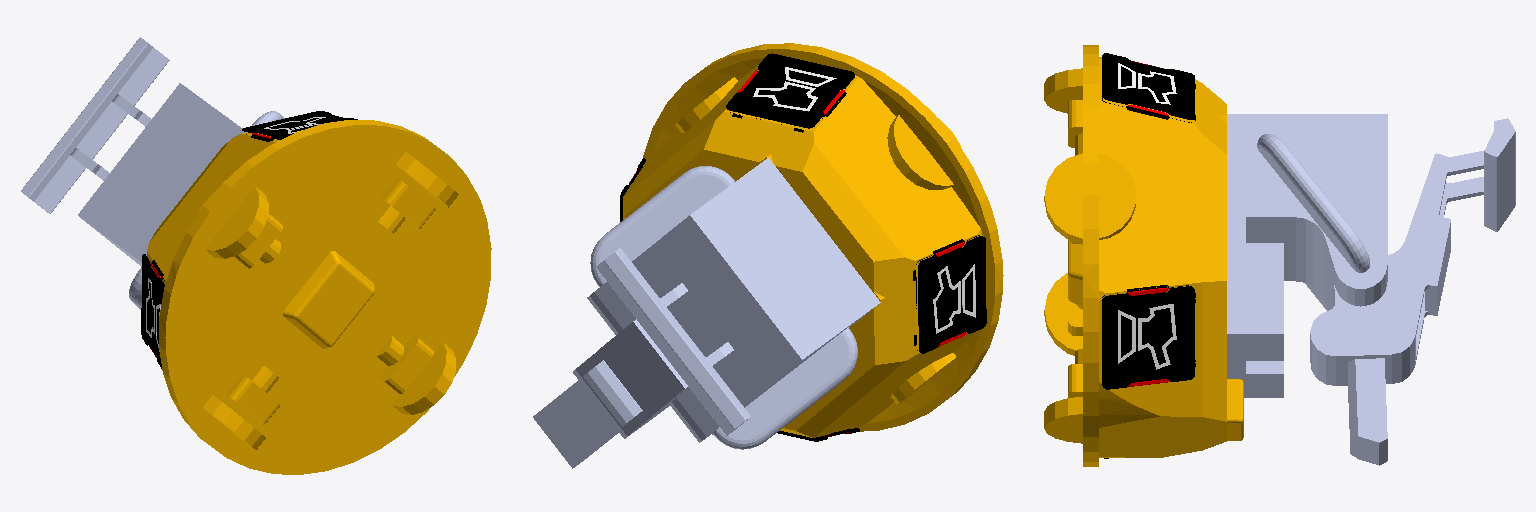
The robot description file, URDF, robot "sentry":
<?xml version="1.0" encoding="utf-8"?>
<!-- This URDF was automatically created by SolidWorks to URDF Exporter! Originally created by [author] ([email redacted]) 
     Commit Version: 1.6.0-4-g7f85cfe  Build Version: 1.6.7995.38578
     For more information, please see http://wiki.ros.org/sw_urdf_exporter -->
<robot
  name="sentry">
  <link
    name="base_link">
    <inertial>
      <origin
        xyz="0.0058961 -0.10415 -0.0060668"
        rpy="0 0 0" />
      <mass
        value="34.39" />
      <inertia
        ixx="0.61402"
        ixy="-0.0072371"
        ixz="0.028313"
        iyy="1.0121"
        iyz="0.0074469"
        izz="0.6124" />
    </inertial>
    <visual>
      <origin
        xyz="0 0 0"
        rpy="0 0 0" />
      <geometry>
        <mesh
          filename="package://sentry/meshes/base_link.STL" />
      </geometry>
      <material
        name="base_link">
        <color
          rgba="0.984 0.737 0.020 1" />
      </material>
    </visual>
    <collision>
      <origin
        xyz="0 0 0"
        rpy="0 0 0" />
      <geometry>
        <mesh
          filename="package://sentry/meshes/base_link.STL" />
      </geometry>
    </collision>
  </link>
  <link
    name="mount_link">
    <inertial>
      <origin
        xyz="-0.021651 0.10215 0.023049"
        rpy="0 0 0" />
      <mass
        value="11.727" />
      <inertia
        ixx="0.11733"
        ixy="0.0063296"
        ixz="0.0020754"
        iyy="0.1403"
        iyz="-0.0054707"
        izz="0.11921" />
    </inertial>
    <visual>
      <origin
        xyz="0 0 0"
        rpy="0 0 0" />
      <geometry>
        <mesh
          filename="package://sentry/meshes/mount_link.STL" />
      </geometry>
      <material
        name="mount_link">
        <color
          rgba="0.79216 0.81961 0.93333 1" />
      </material>
    </visual>
    <collision>
      <origin
        xyz="0 0 0"
        rpy="0 0 0" />
      <geometry>
        <mesh
          filename="package://sentry/meshes/mount_link.STL" />
      </geometry>
    </collision>
  </link>
  <joint
    name="mount_joint"
    type="continuous">
    <origin
      xyz="0 0 0"
      rpy="0 0 0" />
    <parent
      link="base_link" />
    <child
      link="mount_link" />
    <axis
      xyz="0 1 0" />
  </joint>
  <link
    name="turret_link">
    <inertial>
      <origin
        xyz="0.018816 0.04759 -0.018816"
        rpy="0 0 0" />
      <mass
        value="2.2519" />
      <inertia
        ixx="0.028264"
        ixy="0.011098"
        ixz="0.011252"
        iyy="0.031604"
        iyz="-0.011098"
        izz="0.028264" />
    </inertial>
    <visual>
      <origin
        xyz="0 0 0"
        rpy="0 0 0" />
      <geometry>
        <mesh
          filename="package://sentry/meshes/turret_link.STL" />
      </geometry>
      <material
        name="turret_link">
        <color
          rgba="0.79216 0.81961 0.93333 1" />
      </material>
    </visual>
    <collision>
      <origin
        xyz="0 0 0"
        rpy="0 0 0" />
      <geometry>
        <mesh
          filename="package://sentry/meshes/turret_link.STL" />
      </geometry>
    </collision>
  </link>
  <joint
    name="turret_joint"
    type="continuous">
    <origin
      xyz="0.039832730842718 0.175264704336287 -0.0398327308427171"
      rpy="0.0251555330704304 -0.00031643379213156 0.0251555330704238" />
    <parent
      link="mount_link" />
    <child
      link="turret_link" />
    <axis
      xyz="0.707106781186547 0 0.707106781186548" />
  </joint>
  <link
    name="plates_link">
    <inertial>
      <origin
        xyz="1.2306E-09 -0.10279 -8.31E-10"
        rpy="0 0 0" />
      <mass
        value="0.42253" />
      <inertia
        ixx="0.00080558"
        ixy="1.2254E-12"
        ixz="7.2489E-13"
        iyy="0.00061977"
        iyz="-9.8536E-13"
        izz="0.00080558" />
    </inertial>
    <visual>
      <origin
        xyz="0 0 0"
        rpy="0 0 0" />
      <geometry>
        <mesh
          filename="package://sentry/meshes/plates_link.STL" />
      </geometry>
      <material
        name="plates_link">
        <color
          rgba="0 0 0 1" />
      </material>
    </visual>
    <collision>
      <origin
        xyz="0 0 0"
        rpy="0 0 0" />
      <geometry>
        <mesh
          filename="package://sentry/meshes/plates_link.STL" />
      </geometry>
    </collision>
  </link>
  <joint
    name="plates_joint"
    type="fixed">
    <origin
      xyz="0 0 0"
      rpy="0 0 0" />
    <parent
      link="base_link" />
    <child
      link="plates_link" />
    <axis
      xyz="0 0 0" />
  </joint>
  <link
    name="lightbars_link">
    <inertial>
      <origin
        xyz="-4.2633E-14 -0.10205 1.1835E-13"
        rpy="0 0 0" />
      <mass
        value="0.0025567" />
      <inertia
        ixx="5.7029E-07"
        ixy="-9.313E-20"
        ixz="-1.0254E-20"
        iyy="4.7362E-08"
        iyz="9.8106E-20"
        izz="5.7029E-07" />
    </inertial>
    <visual>
      <origin
        xyz="0 0 0"
        rpy="0 0 0" />
      <geometry>
        <mesh
          filename="package://sentry/meshes/lightbars_link.STL" />
      </geometry>
      <material
        name="lightbars_link">
        <color
          rgba="1 0 0 1" />
      </material>
    </visual>
    <collision>
      <origin
        xyz="0 0 0"
        rpy="0 0 0" />
      <geometry>
        <mesh
          filename="package://sentry/meshes/lightbars_link.STL" />
      </geometry>
    </collision>
  </link>
  <joint
    name="lightbars_joint"
    type="fixed">
    <origin
      xyz="0 0 0"
      rpy="0 0 0" />
    <parent
      link="plates_link" />
    <child
      link="lightbars_link" />
    <axis
      xyz="0 0 0" />
  </joint>
  <link
    name="numbers_link">
    <inertial>
      <origin
        xyz="-1.24344978758018E-14 -0.106157934489693 2.44249065417534E-15"
        rpy="0 0 0" />
      <mass
        value="0.000832737644459615" />
      <inertia
        ixx="4.26394453604487E-07"
        ixy="1.9777721123419E-20"
        ixz="5.85188924350639E-21"
        iyy="5.50886885517693E-07"
        iyz="4.29502359759066E-21"
        izz="4.26394453604389E-07" />
    </inertial>
    <visual>
      <origin
        xyz="0 0 0"
        rpy="0 0 0" />
      <geometry>
        <mesh
          filename="package://sentry/meshes/numbers_link.STL" />
      </geometry>
      <material
        name="numbers_link">
        <color
          rgba="1 1 1 1" />
      </material>
    </visual>
    <collision>
      <origin
        xyz="0 0 0"
        rpy="0 0 0" />
      <geometry>
        <mesh
          filename="package://sentry/meshes/numbers_link.STL" />
      </geometry>
    </collision>
  </link>
  <joint
    name="numbers_joint"
    type="fixed">
    <origin
      xyz="0 0 0"
      rpy="0 0 0" />
    <parent
      link="plates_link" />
    <child
      link="numbers_link" />
    <axis
      xyz="0 0 0" />
  </joint>
</robot>

--- Render facts (derived) ---
The picture shows the robot from 3 angles, left to right: view 1: azimuth 30°, elevation 25°; view 2: azimuth 150°, elevation 25°; view 3: azimuth 270°, elevation 25°; orthographic projection.
Robot: sentry — 6 links, 5 joints (2 continuous, 3 fixed); root link base_link; default pose: all joints at 0.
Visible links, largest first — view 1: base_link, mount_link, turret_link, plates_link; view 2: base_link, mount_link, turret_link, plates_link, numbers_link; view 3: base_link, mount_link, turret_link, plates_link, numbers_link.
Link boxes in pixels (bbox=[...]): base_link: bbox=[147, 120, 491, 474]; mount_link: bbox=[78, 83, 284, 309]; turret_link: bbox=[21, 37, 169, 213]; plates_link: bbox=[141, 111, 357, 368]; base_link: bbox=[623, 43, 1003, 437]; mount_link: bbox=[587, 158, 880, 449]; turret_link: bbox=[533, 248, 750, 468]; plates_link: bbox=[620, 53, 986, 441]; numbers_link: bbox=[753, 67, 975, 333]; base_link: bbox=[1044, 45, 1243, 466]; mount_link: bbox=[1227, 114, 1387, 397]; turret_link: bbox=[1310, 118, 1515, 465]; plates_link: bbox=[1102, 53, 1195, 458]; numbers_link: bbox=[1118, 63, 1176, 369].
Bounding box of the posed robot: 0.5493 × 0.6144 × 0.5499 m (x, y, z).
Meshes: 6 distinct files referenced, 6 mesh visuals loaded (6 binary STL).